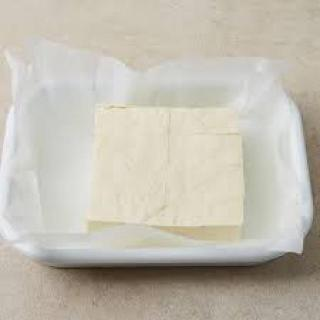Tahu: (82, 102, 257, 244)
